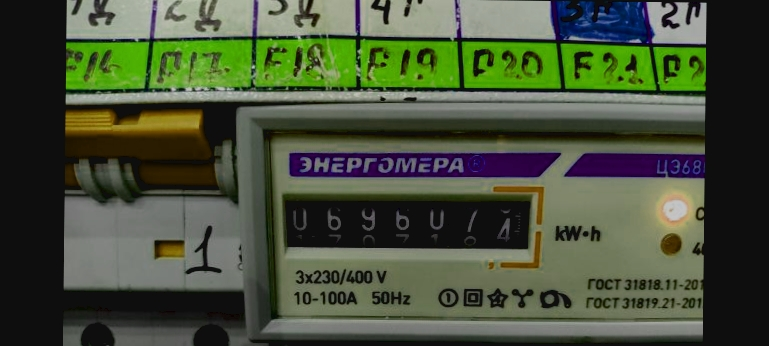0: (290, 202, 310, 231), (426, 202, 446, 230)
4: (494, 215, 512, 243)
6: (393, 202, 412, 230), (324, 203, 343, 230)
7: (461, 203, 481, 233)
9: (358, 204, 377, 232)
screen: (269, 179, 549, 269)
